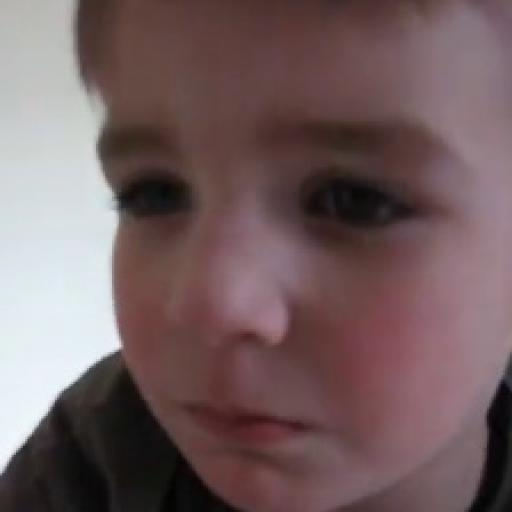Autism: (64, 2, 512, 512)
